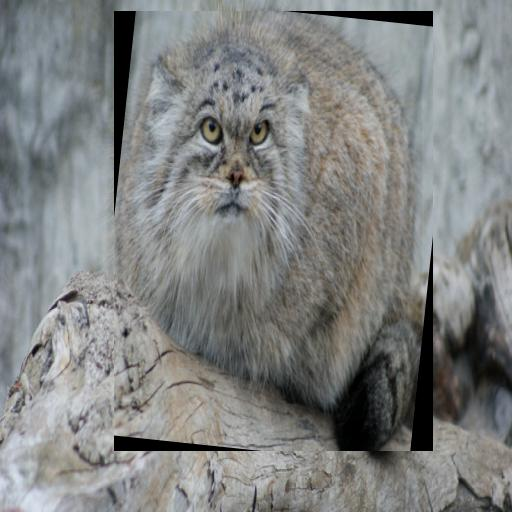manul: (115, 11, 422, 451)
